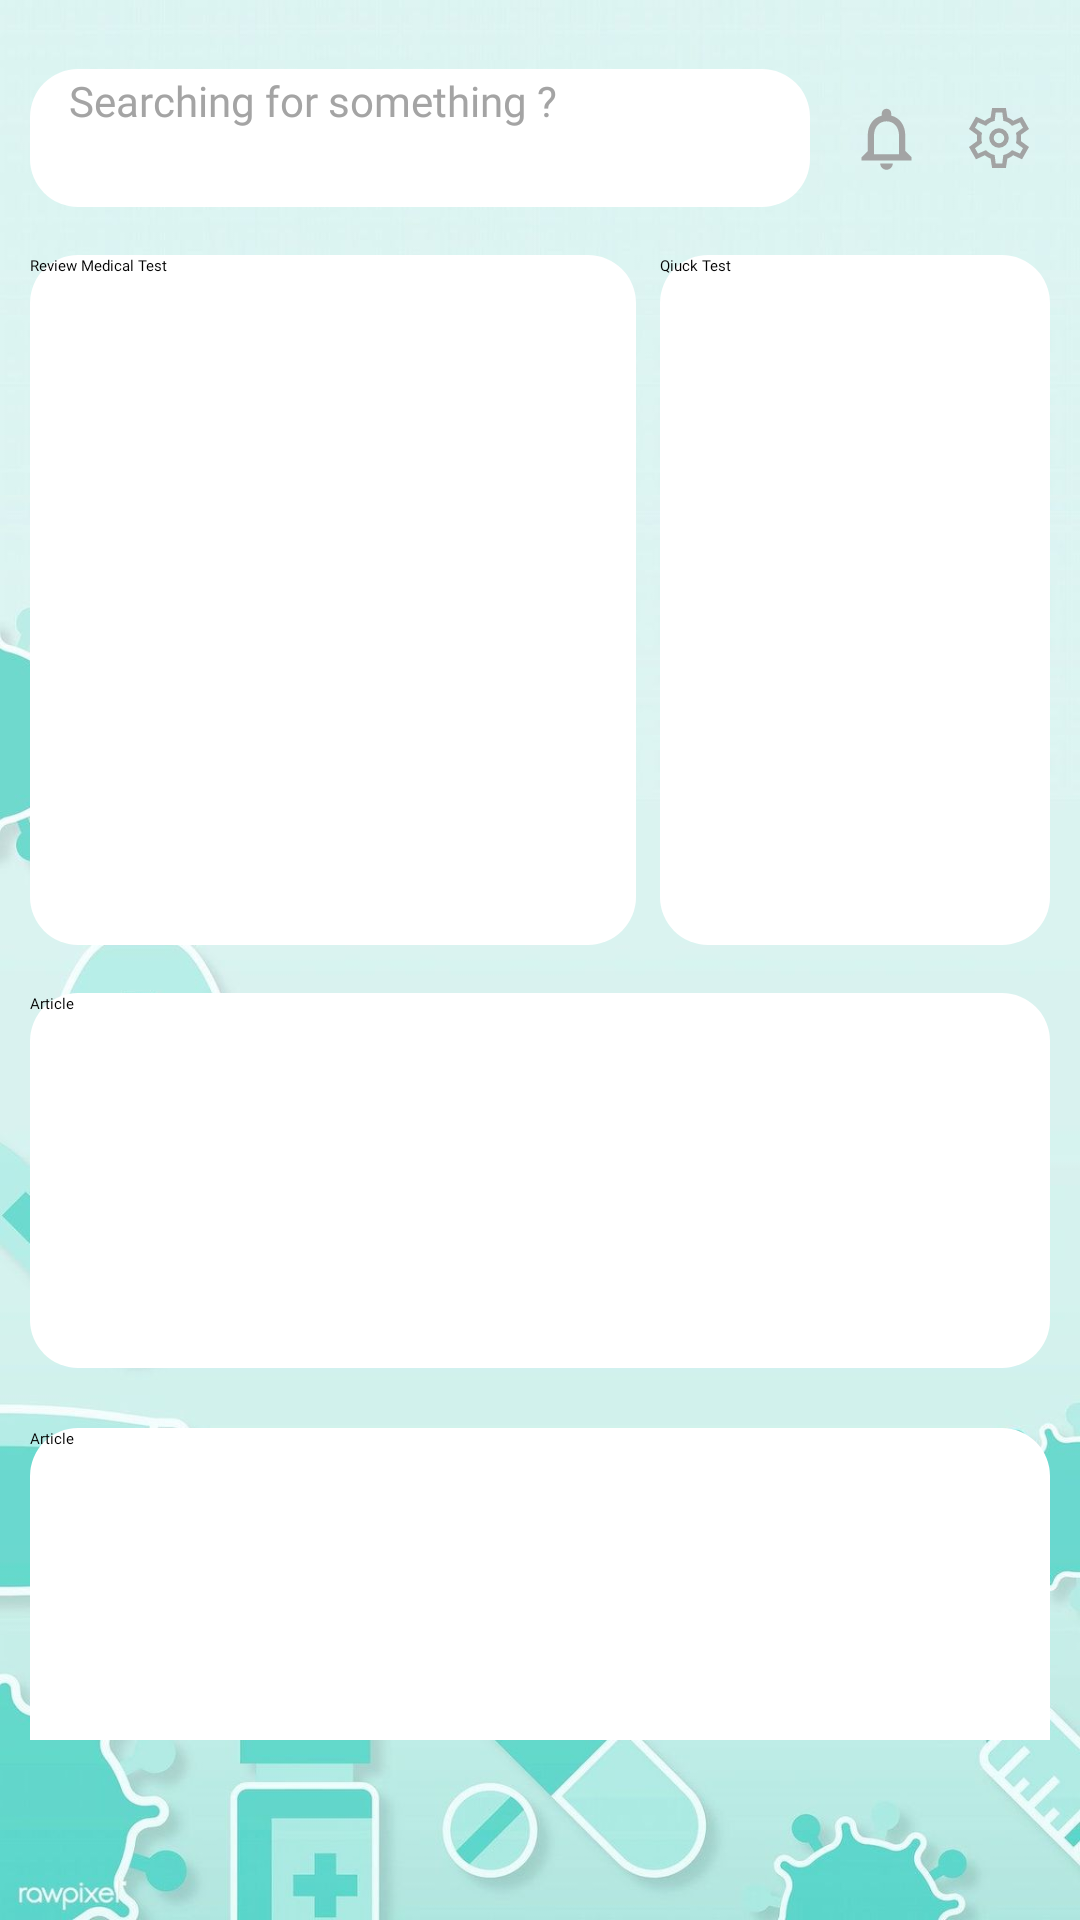

Icon bounding boxes for this 1080*1920 phone screenshot, format [x1,y1,x2,y2]:
notification: [861,109,912,170]
Setting: [969,108,1029,168]
